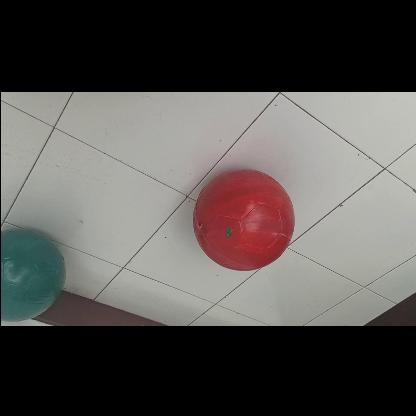red_ball: (192, 169, 294, 271)
